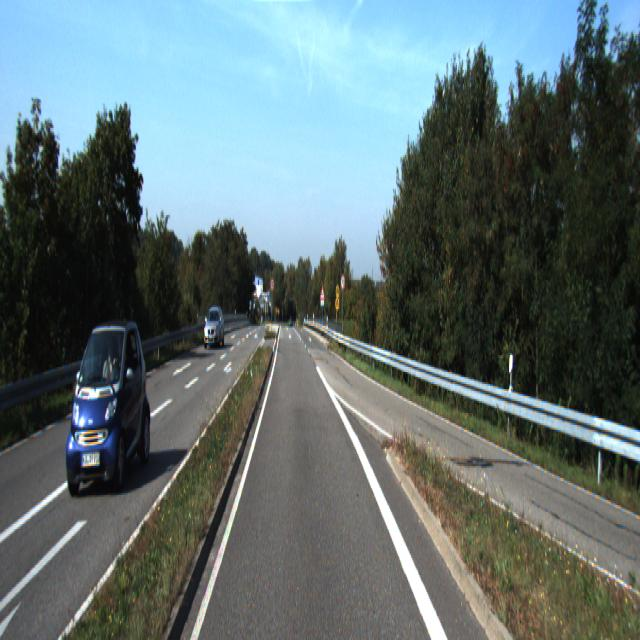Car: (66, 319, 153, 492), (200, 306, 225, 350)
